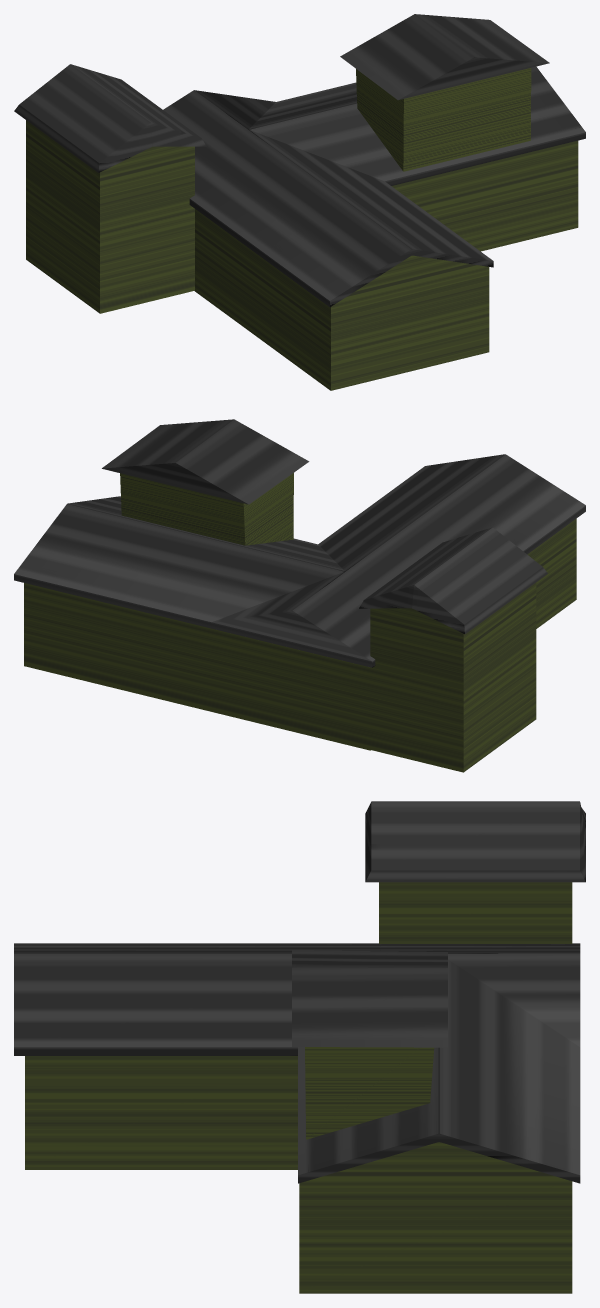
Rendered from House 3.glb.
The picture shows the model from 3 angles, top to bottom: view 1: azimuth 30°, elevation 25°; view 2: azimuth 150°, elevation 25°; view 3: azimuth 270°, elevation 25°; orthographic projection. The views are drawn at different scales.
Parts seen in each view (by area): view 1: Cube.007, Cube.010, Cube.001; view 2: Cube.010, Cube.007, Cube.001; view 3: Cube.010, Cube.007, Cube.001.
Part boxes in pixels (x1,y1,x2,y2): Cube.007: (26,120,578,390); Cube.010: (14,14,585,307); Cube.001: (356,68,531,171); Cube.010: (14,419,585,667); Cube.007: (24,518,576,772); Cube.001: (120,473,293,545); Cube.010: (14,801,585,1183); Cube.007: (25,882,572,1293); Cube.001: (305,1047,434,1139).
Bounding box in the file's own units: 83.05 × 34.15 × 68.46.
Materials: 3 (3 with a texture image).
